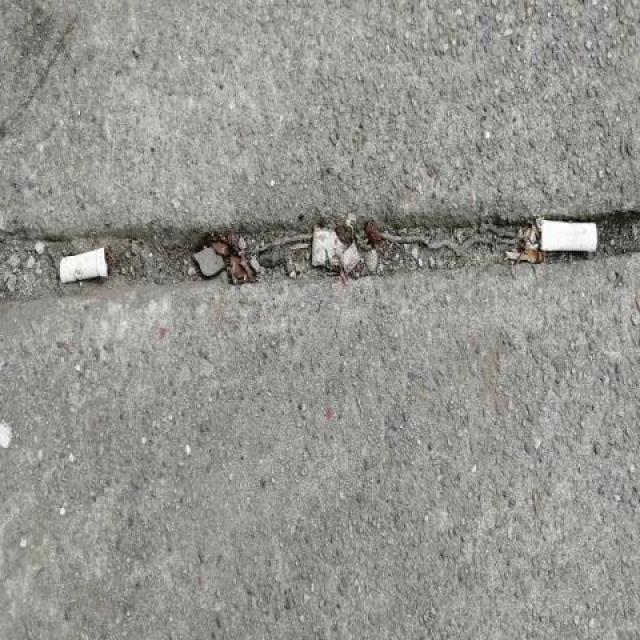non-organic waste: (535, 214, 605, 261), (57, 242, 122, 289)
